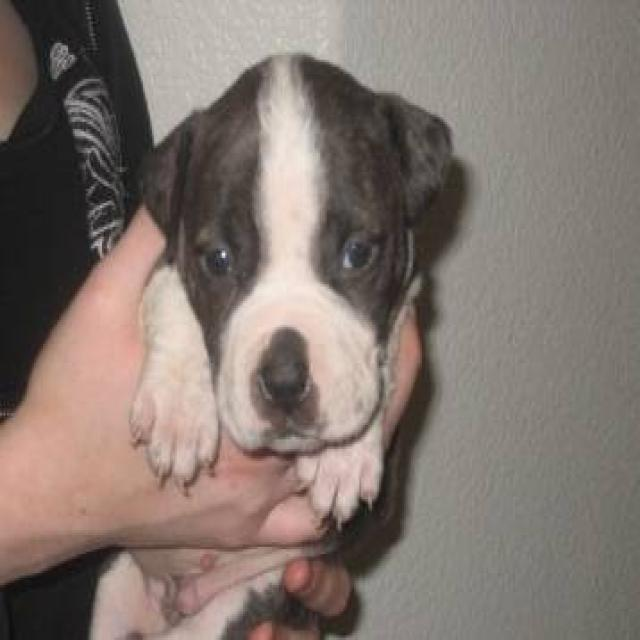dogs: (93, 75, 460, 640)
